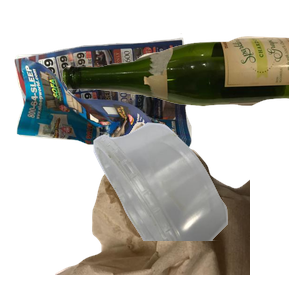glass: (60, 34, 300, 133)
paper: (12, 31, 196, 204)
plastic: (91, 120, 300, 300)
trash: (52, 120, 292, 300)
